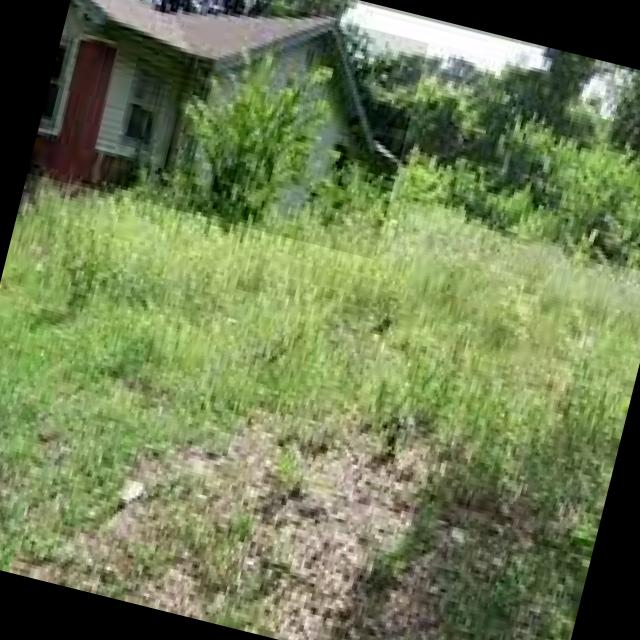House: (27, 0, 428, 259)
